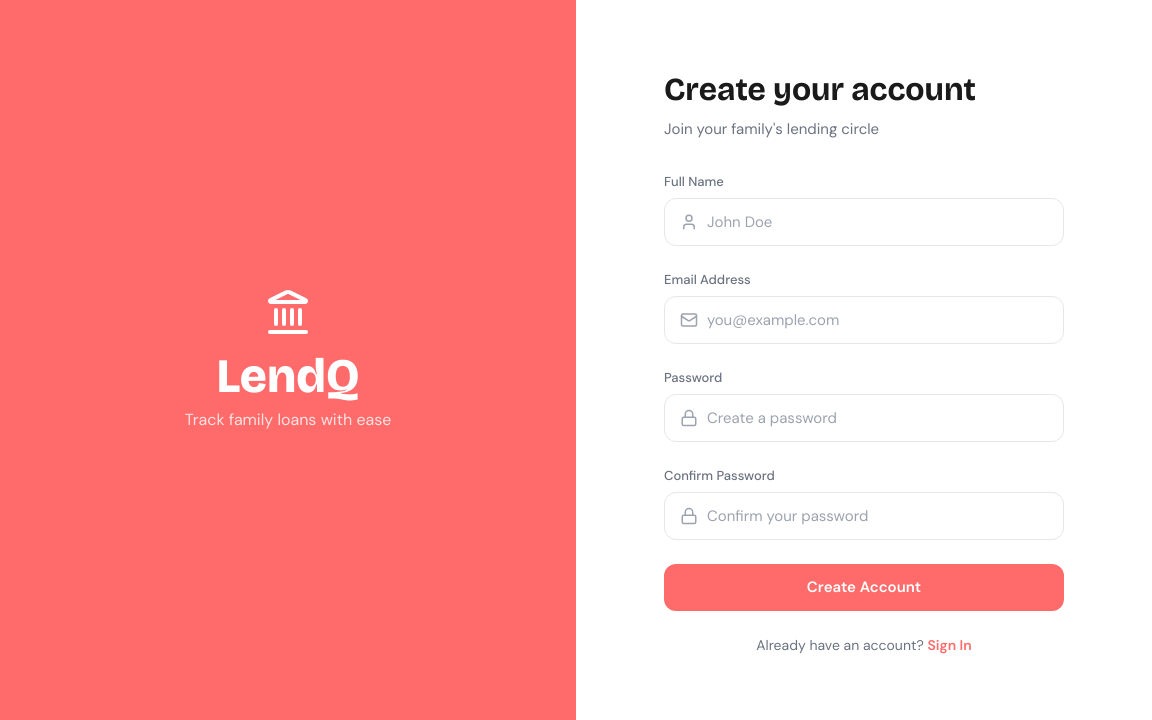
it: SignUpPage › maps duplicate-email API failures to the email field
Type "Test User" into the field labelled "Full Name" at (864,222), box [664,198,1064,246]
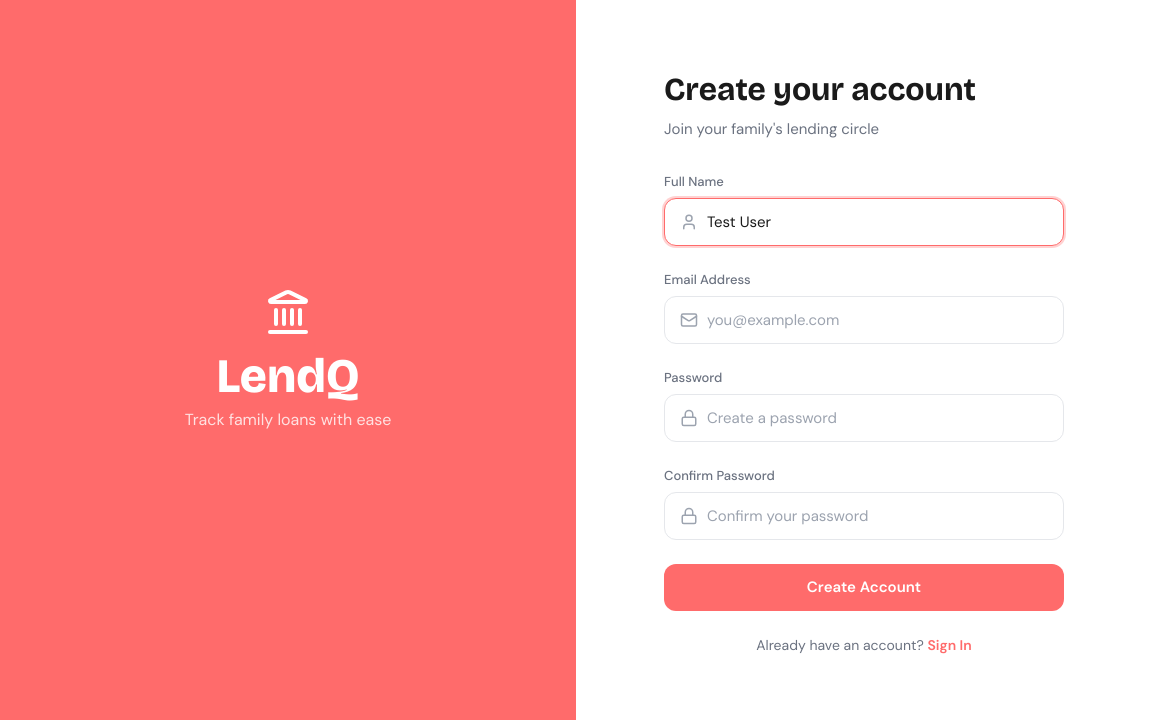
Type "duplicate@example.com" into the field labelled "Email Address" at (864,320), box [664,296,1064,344]
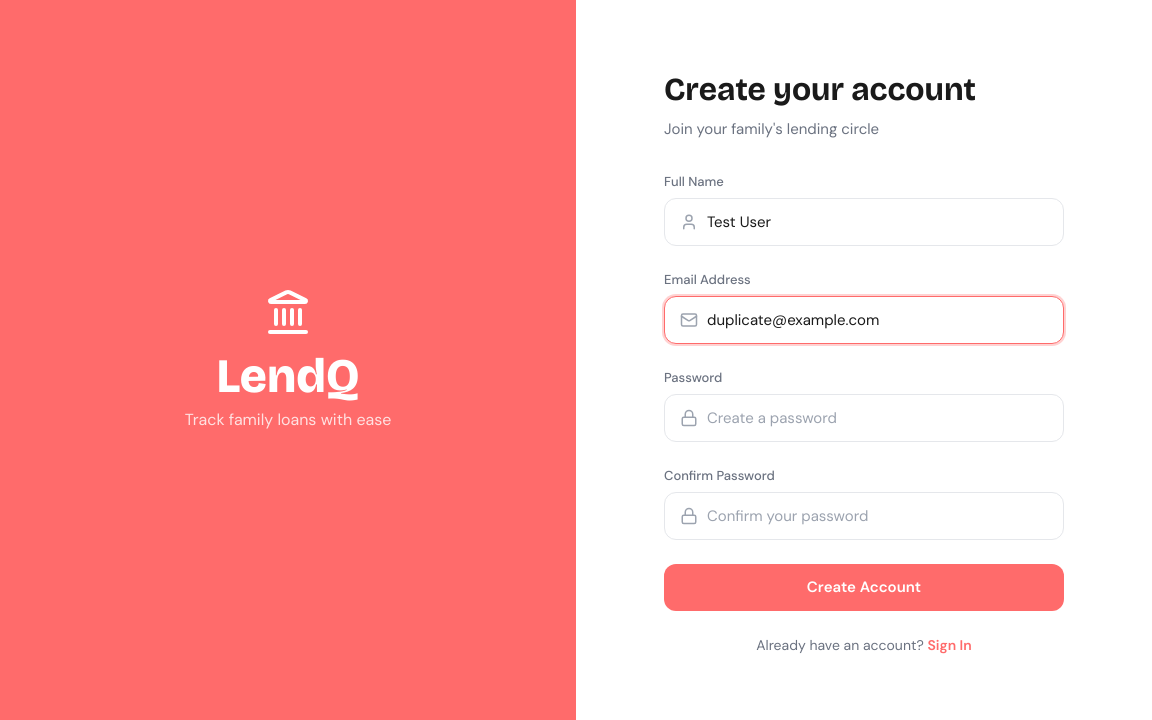
Type "password123" into the password field labelled "Password" at (864,418), box [664,394,1064,442]
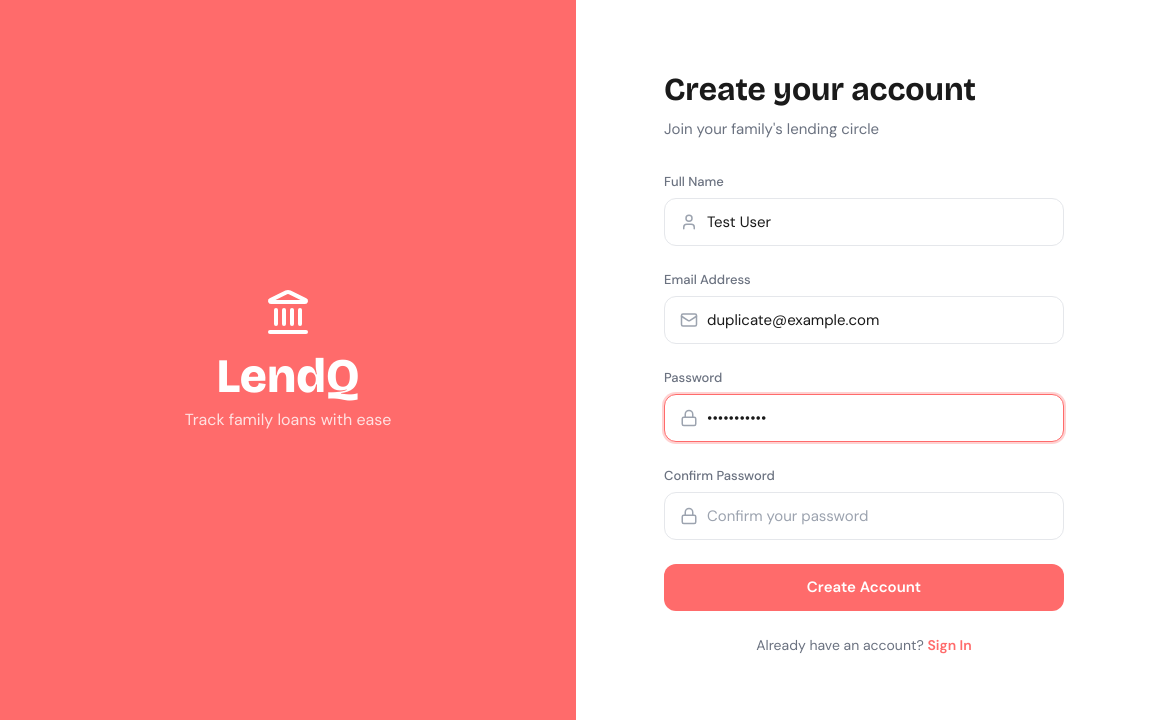
Type "password123" into the password field labelled "Confirm Password" at (864,516), box [664,492,1064,540]
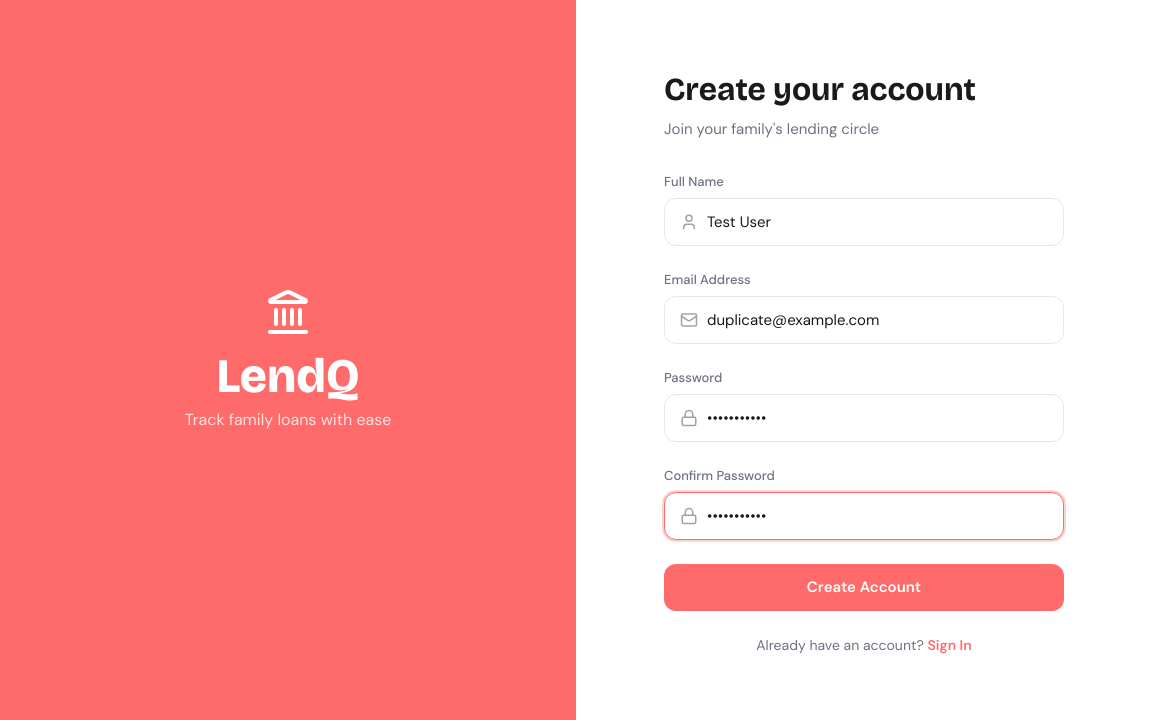
Click the button "Create Account" at (864,587), box [664,564,1064,610]
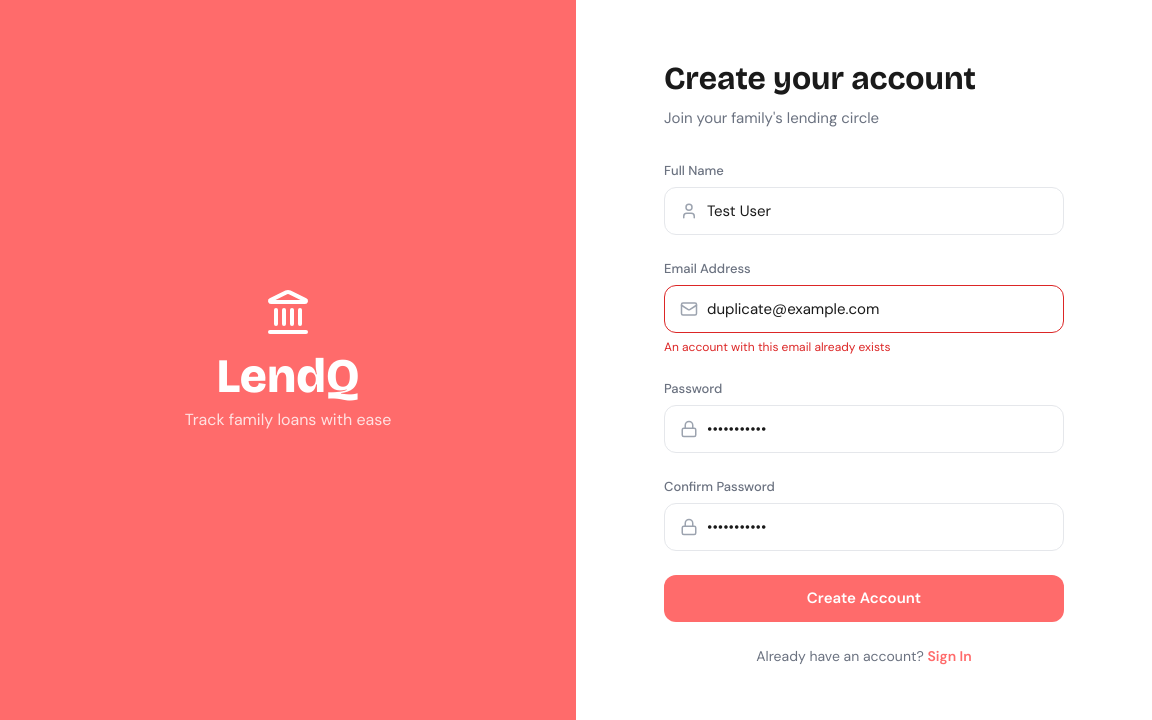
Now the text with test id "error-email" reads "An account with this email already exists", box [664,339,890,355]
